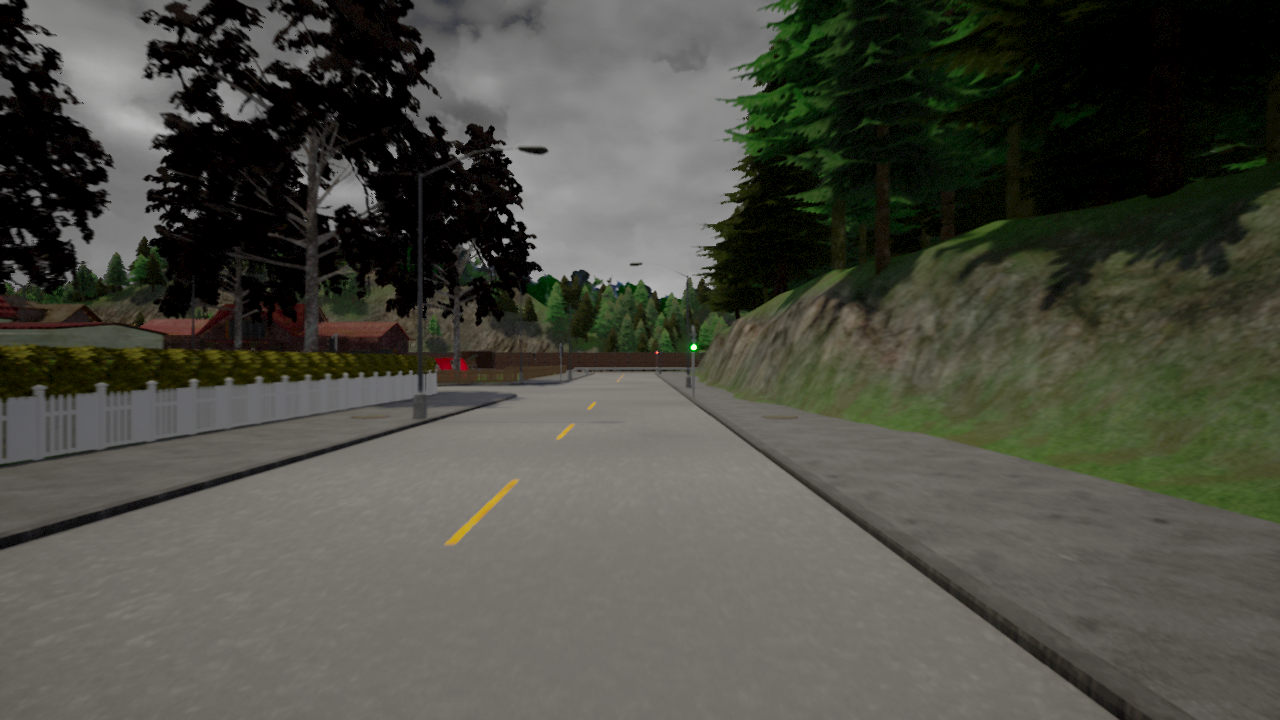green: (689, 327, 698, 351)
